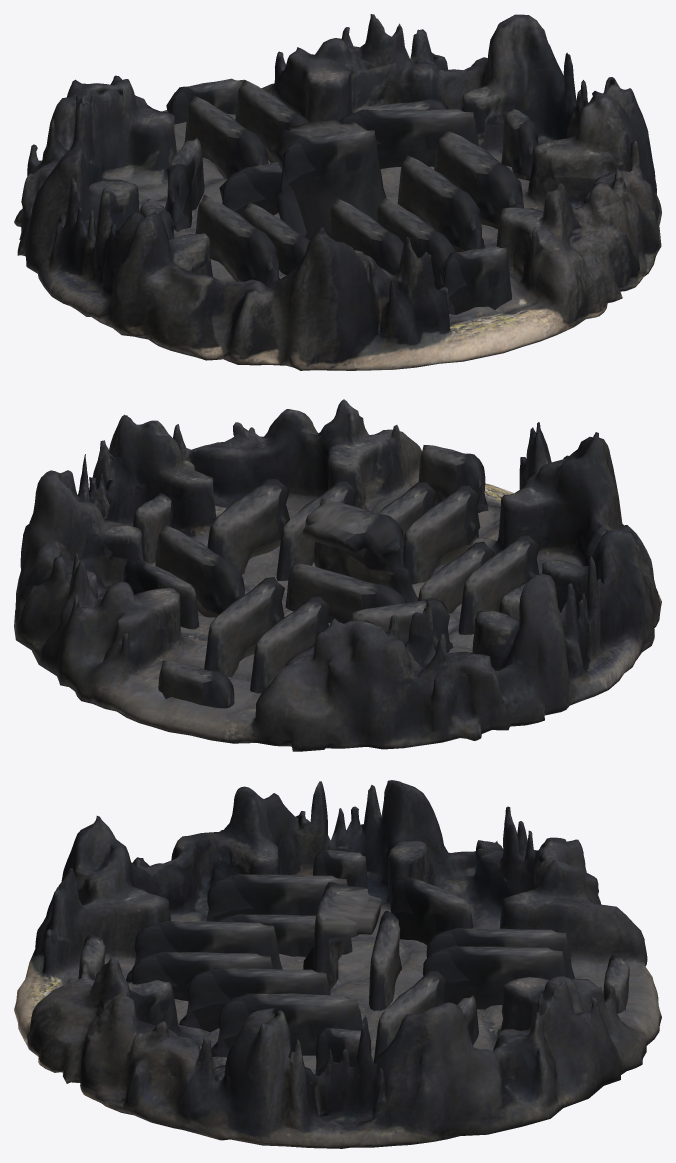
The model's file is mountain-arena.comp.glb.
3 renders of one model, top to bottom at view 1: azimuth 30°, elevation 25°; view 2: azimuth 150°, elevation 25°; view 3: azimuth 270°, elevation 25°, orthographic.
Parts seen in each view (by area): view 1: vulcano-arena; view 2: vulcano-arena; view 3: vulcano-arena.
Boxes of the visible parts, bbox=[...] form: vulcano-arena: bbox=[14, 14, 661, 370]; vulcano-arena: bbox=[14, 399, 661, 751]; vulcano-arena: bbox=[14, 780, 661, 1148].
Bounding box in the file's own units: 96.76 × 22.25 × 97.19.
1 material, 1 textured.
